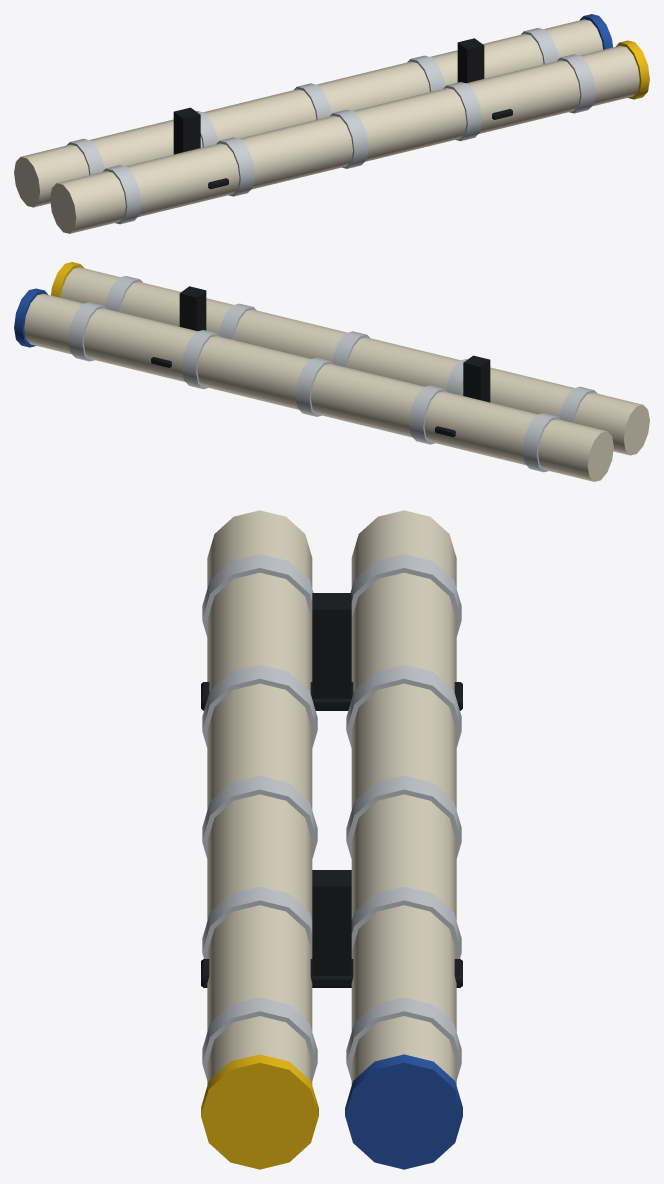
Rendered from pipe_ceiling_insulated_pair.glb.
3 renders of one model, top to bottom at view 1: azimuth 30°, elevation 25°; view 2: azimuth 150°, elevation 25°; view 3: azimuth 270°, elevation 25°, orthographic. The views are drawn at different scales.
Visible parts, largest first — view 1: pipe_ceiling_insulated_pair; view 2: pipe_ceiling_insulated_pair; view 3: pipe_ceiling_insulated_pair.
Boxes of the visible parts, x1,y1,x2,y2 form: pipe_ceiling_insulated_pair: [14, 14, 649, 233]; pipe_ceiling_insulated_pair: [14, 262, 649, 481]; pipe_ceiling_insulated_pair: [201, 510, 462, 1169].
Size of the model in its own units: 2.01 by 0.25 by 0.4.
